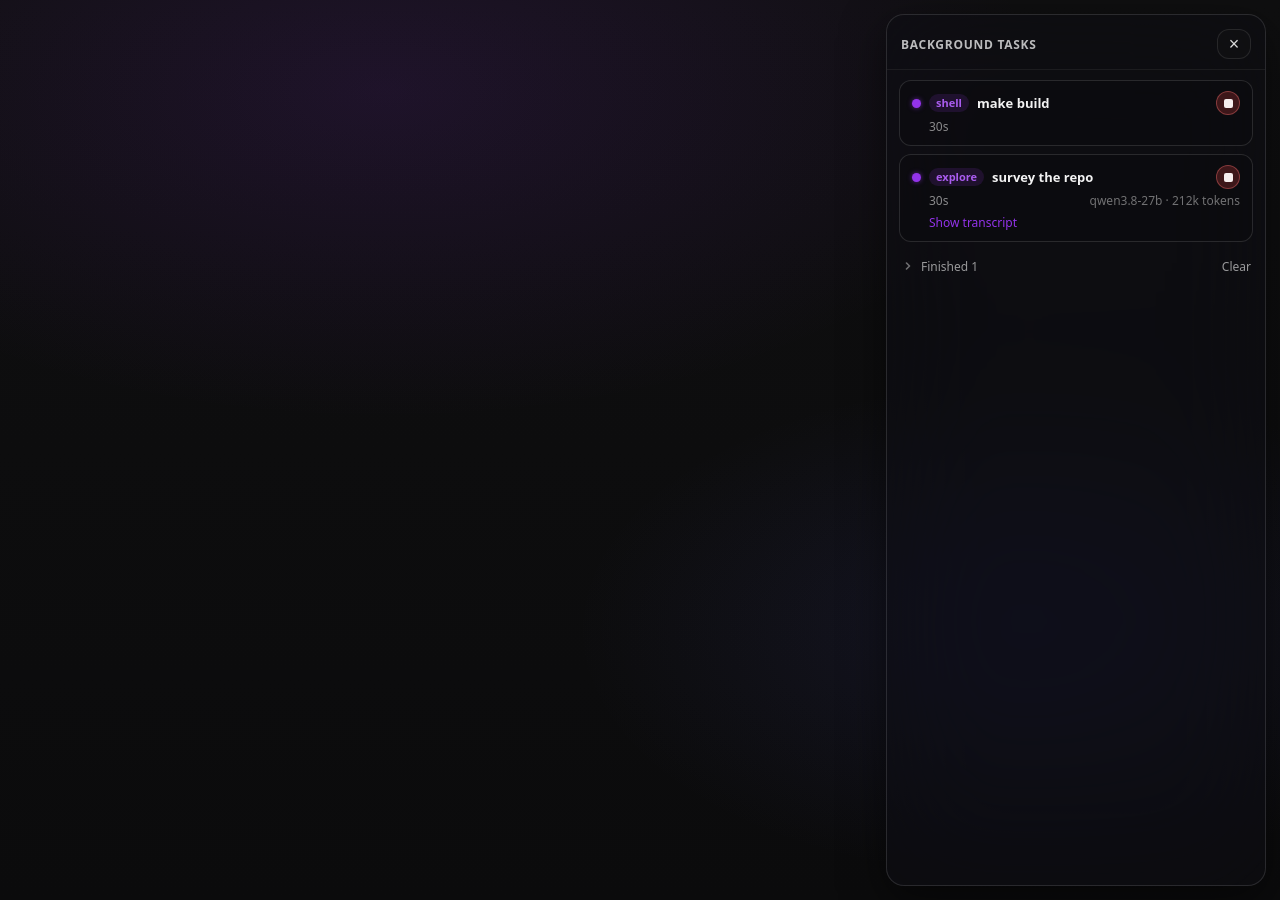
it: a folded subagent card names its model and the tokens it spent, a command card neither
Expected: the element with test id "bgtask-usage-bg_7" reads "qwen3.8-27b · 212k tokens", [1090,192,1240,209]
Expected: the text with test id "bgtask-model-bg_7" reads "qwen3.8-27b", [1090,192,1162,209]
Note: A finished run keeps what it spent.
Step 1. Click the button with test id "bgtask-finished-toggle" → (940, 266), box [901,252,978,280]
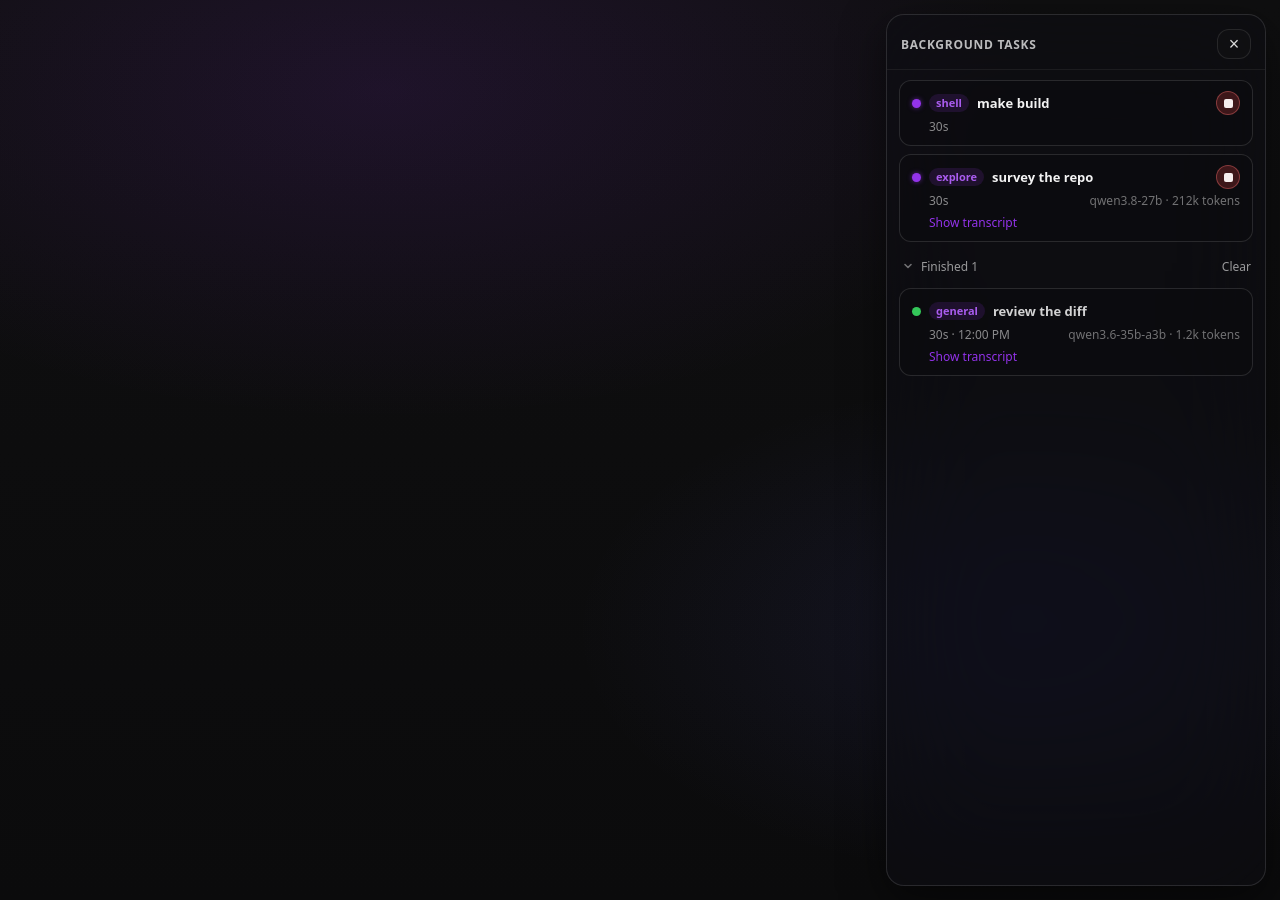
Expected: the element with test id "bgtask-usage-bg_3" reads "qwen3.6-35b-a3b · 1.2k tokens", [1068,326,1240,343]
